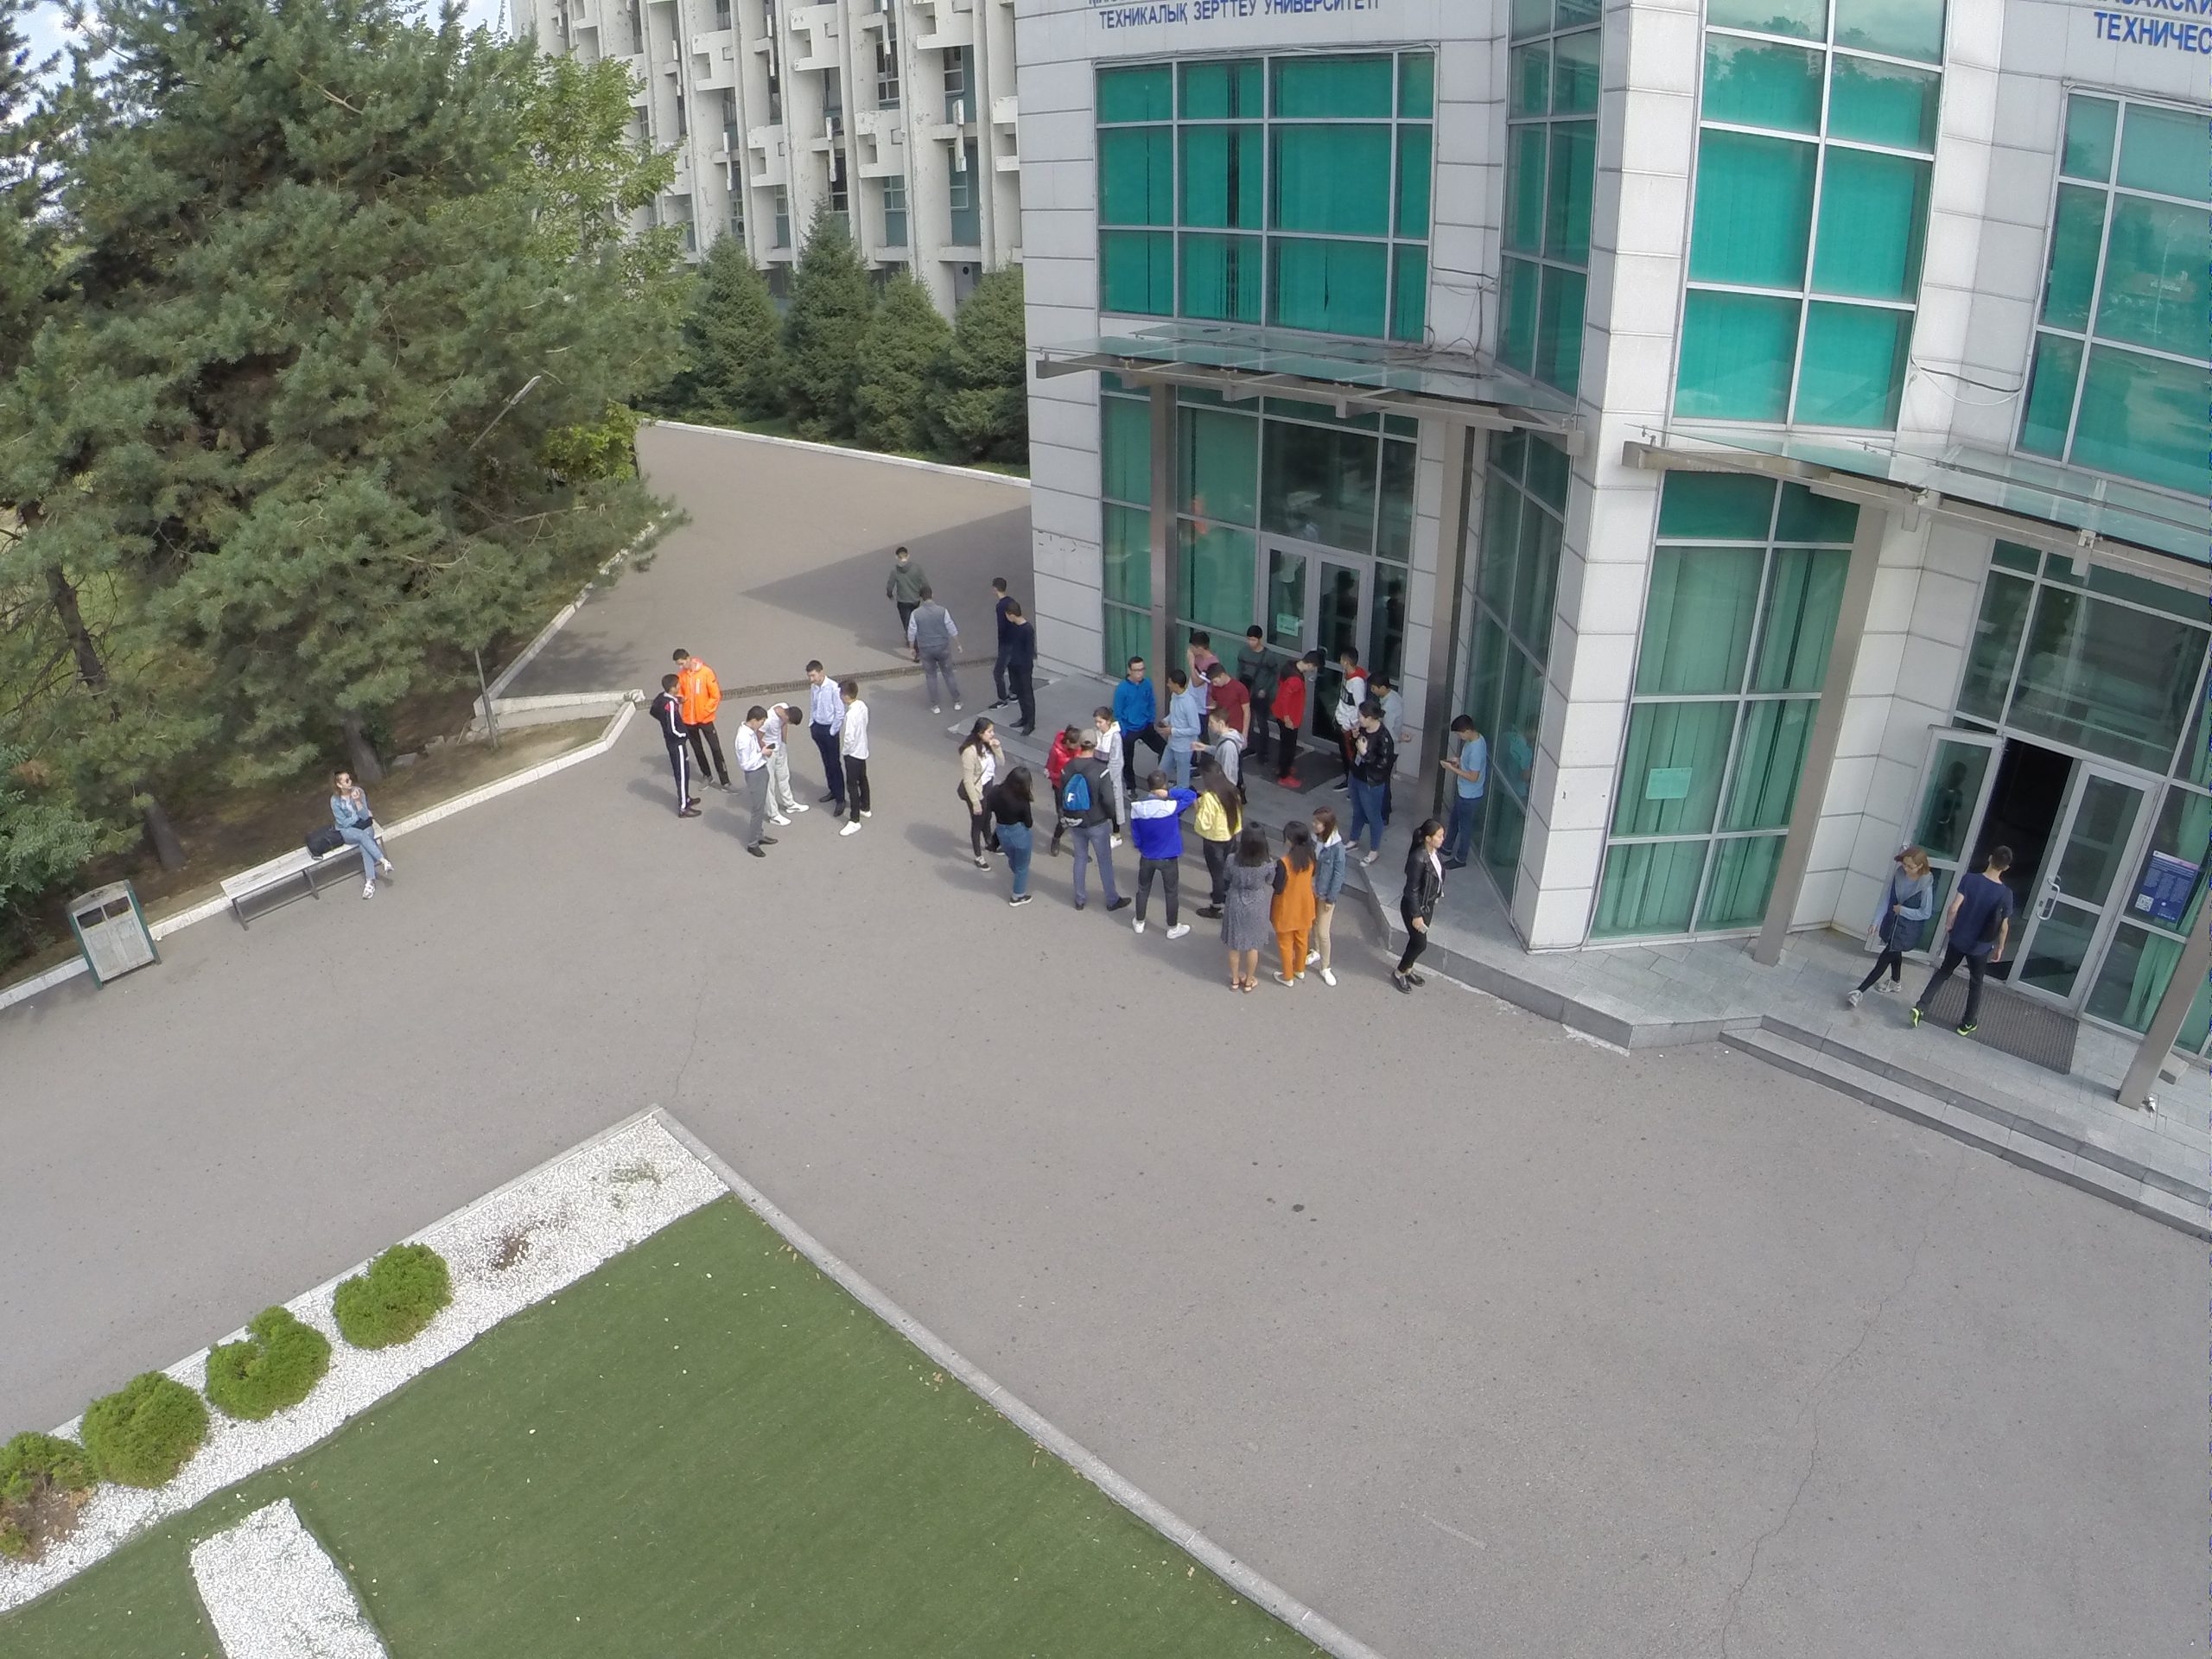person: (1930, 843, 2021, 1041), (1846, 843, 1936, 1027), (1115, 777, 1194, 944), (1071, 733, 1131, 923), (325, 764, 399, 906), (1216, 822, 1274, 1003), (1294, 803, 1348, 994), (898, 575, 969, 715), (672, 638, 733, 793), (954, 717, 1004, 887), (645, 677, 702, 820), (729, 698, 779, 861), (833, 674, 878, 847), (1402, 816, 1445, 997), (992, 760, 1039, 918), (1446, 705, 1488, 875), (761, 694, 811, 830), (1275, 650, 1323, 787), (805, 656, 845, 820), (1235, 623, 1277, 775), (997, 596, 1041, 737), (1344, 703, 1392, 836), (1045, 724, 1083, 865), (1119, 660, 1161, 773), (1282, 824, 1309, 990), (1161, 670, 1198, 788), (1202, 661, 1252, 735), (1197, 714, 1242, 785), (1369, 672, 1407, 740), (882, 543, 918, 612), (1179, 631, 1220, 679), (1095, 702, 1122, 773), (1337, 646, 1369, 695)
